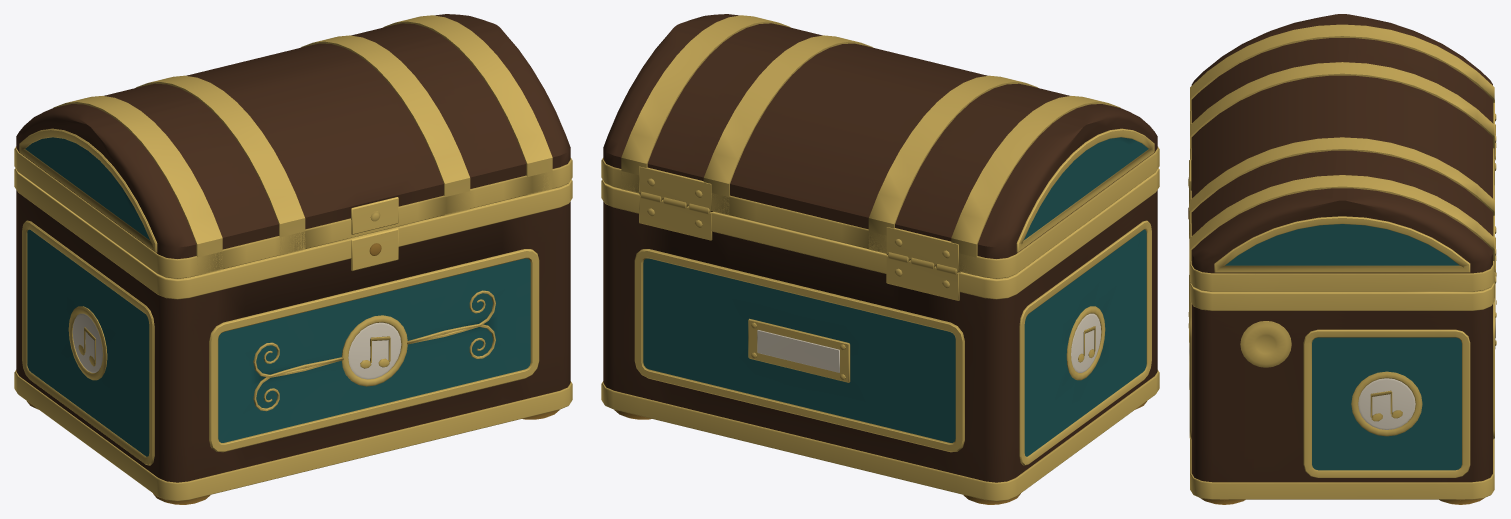
File: music_box_case.glb
3 views of the same model, side by side, from view 1: azimuth 30°, elevation 25°; view 2: azimuth 150°, elevation 25°; view 3: azimuth 270°, elevation 25° (orthographic). The views are drawn at different scales.
Visible parts, largest first — view 1: MusicBoxCase_Body, MusicBoxCase_Lid, MusicBoxCase_SidePanel_L; view 2: MusicBoxCase_Body, MusicBoxCase_Lid, MusicBoxCase_SidePanel_L, MusicBoxCase_Hinge_L, MusicBoxCase_Hinge_R; view 3: MusicBoxCase_Lid, MusicBoxCase_Body, MusicBoxCase_SidePanel_R, MusicBoxCase_Foot.
Boxes of the visible parts, x1,y1,x2,y2 form: MusicBoxCase_Body: (14,168,572,501); MusicBoxCase_Lid: (14,14,572,278); MusicBoxCase_SidePanel_L: (22,220,154,465); MusicBoxCase_Body: (601,168,1159,501); MusicBoxCase_Lid: (601,14,1159,278); MusicBoxCase_SidePanel_L: (1019,220,1151,465); MusicBoxCase_Hinge_L: (886,227,960,300); MusicBoxCase_Hinge_R: (639,166,712,240); MusicBoxCase_Lid: (1188,14,1494,291); MusicBoxCase_Body: (1188,185,1496,499); MusicBoxCase_SidePanel_R: (1303,329,1470,477); MusicBoxCase_Foot: (1199,497,1484,504).
Size of the model in its own units: 0.1303 by 0.1 by 0.09.
